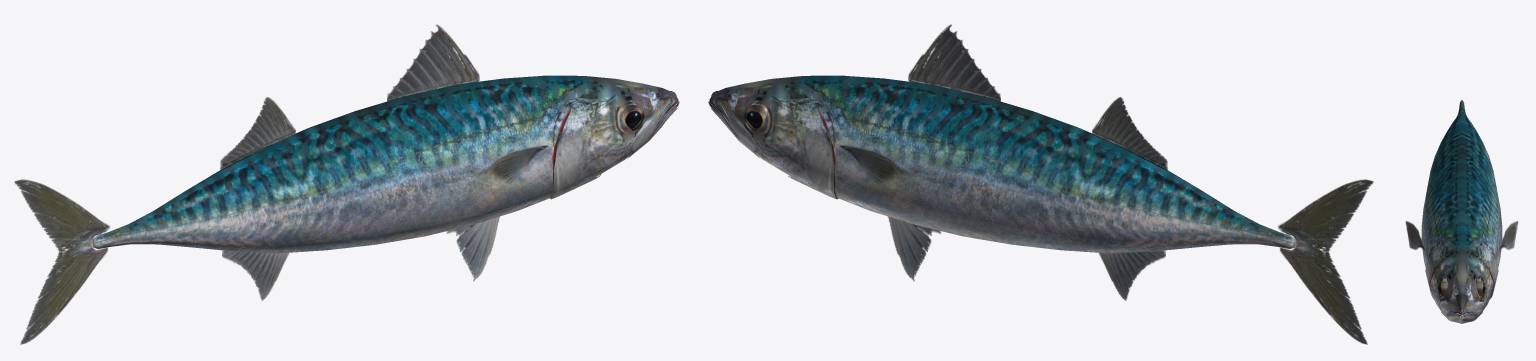
The model's file is saba_lo.glb.
3 views of the same model, side by side, from view 1: azimuth 30°, elevation 25°; view 2: azimuth 150°, elevation 25°; view 3: azimuth 270°, elevation 25° (orthographic). The views are drawn at different scales.
Parts seen in each view (by area): view 1: saba; view 2: saba; view 3: saba.
Boxes of the visible parts, <box> form: saba: <box>14,24,679,344</box>; saba: <box>708,24,1373,344</box>; saba: <box>1405,100,1518,323</box>.
Size of the model in its own units: 0.3509 by 0.1341 by 0.0737.
1 material, 1 textured.
